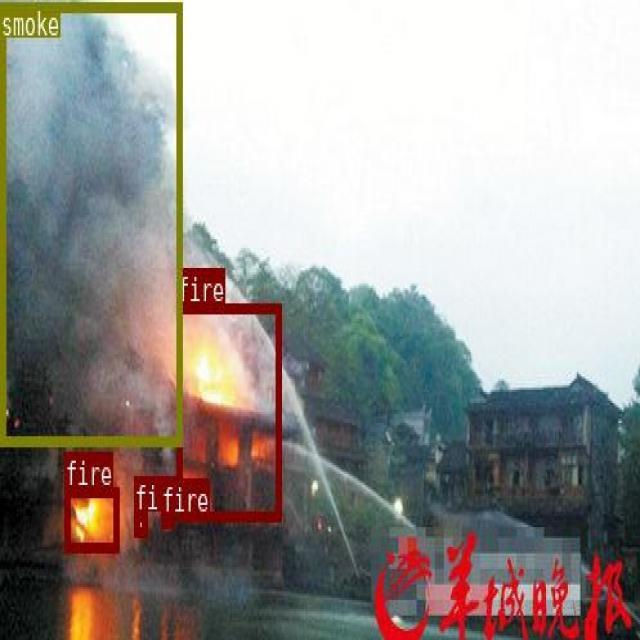fire: (176, 302, 281, 519), (65, 487, 118, 550), (133, 510, 146, 534), (160, 513, 173, 527)
smoke: (0, 1, 182, 444)
